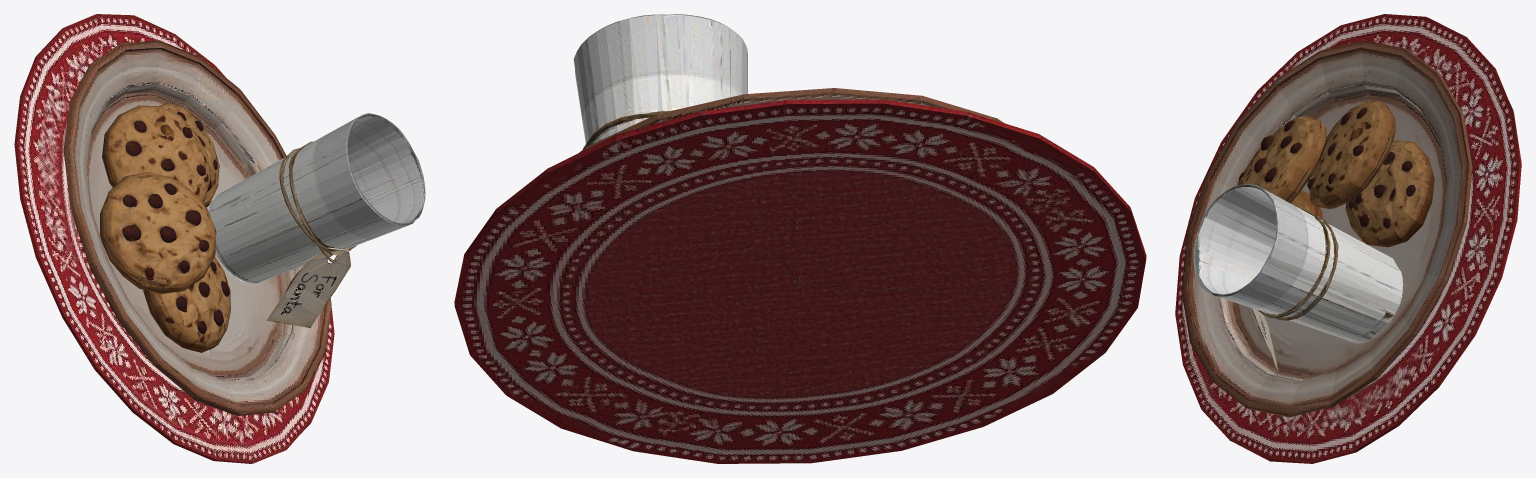
The model's file is ewm_milkcookies.glb.
3 views of the same model, side by side, from view 1: azimuth 30°, elevation 25°; view 2: azimuth 150°, elevation 25°; view 3: azimuth 270°, elevation 25° (orthographic). The views are drawn at different scales.
Parts seen in each view (by area): view 1: ewm_milkcookies; view 2: ewm_milkcookies; view 3: ewm_milkcookies.
Boxes of the visible parts, x1=… form: ewm_milkcookies: x1=14, y1=14, x2=425, y2=463; ewm_milkcookies: x1=454, y1=14, x2=1146, y2=463; ewm_milkcookies: x1=1175, y1=14, x2=1521, y2=463.
Size of the model in its own units: 0.2207 by 0.1993 by 0.1754.
1 material, 1 textured.
